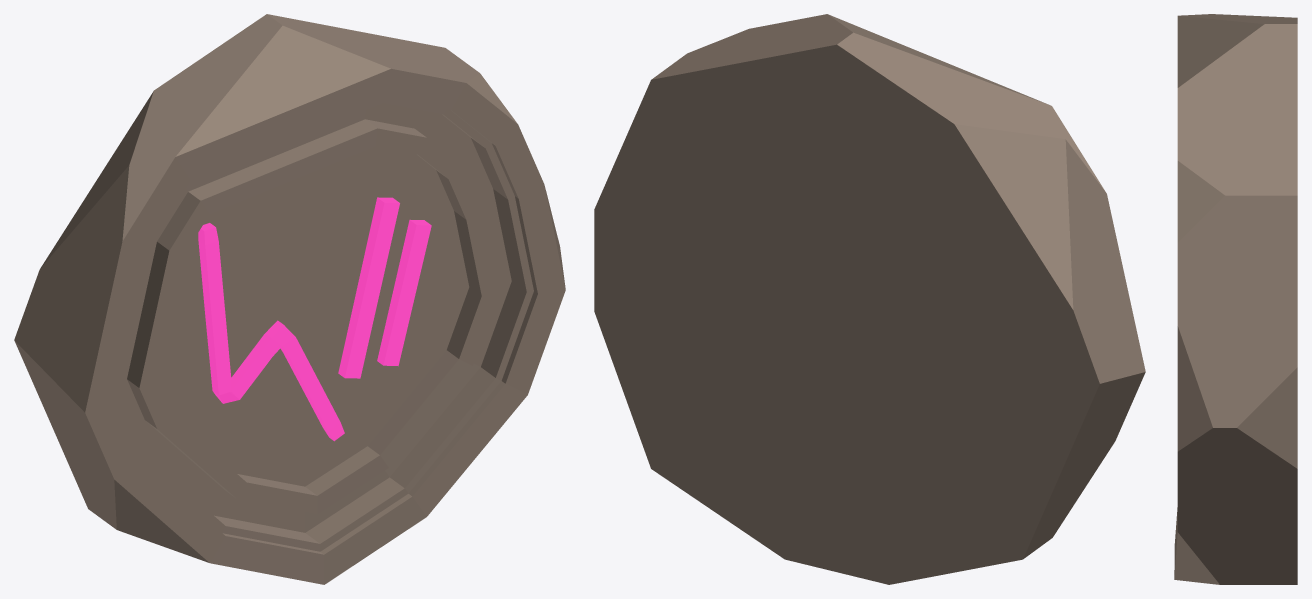
Rendered from target.glb.
3 renders of one model, left to right at view 1: azimuth 30°, elevation 25°; view 2: azimuth 150°, elevation 25°; view 3: azimuth 270°, elevation 25°, orthographic. The views are drawn at different scales.
Visible parts, largest first — view 1: Target, Wawa Glyph; view 2: Target; view 3: Target.
Part boxes in pixels (box(x1,y1,x2,y2)): Target: box(14, 14, 565, 584); Wawa Glyph: box(198, 197, 431, 441); Target: box(594, 14, 1145, 584); Target: box(1174, 14, 1297, 584).
Size of the model in its own units: 1.45 by 1.45 by 0.2929.
